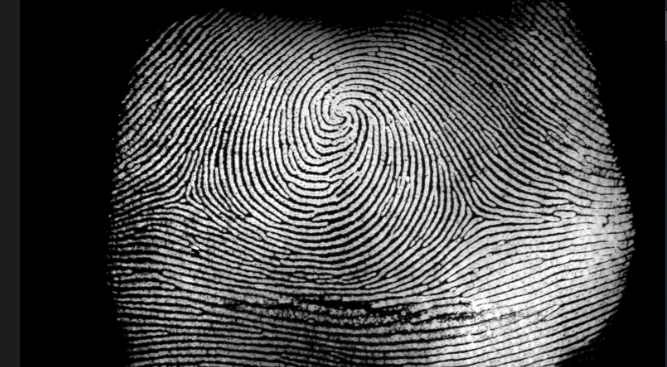nucelo: (326, 97, 359, 126)
verticilo: (456, 198, 491, 227), (168, 179, 198, 209)
